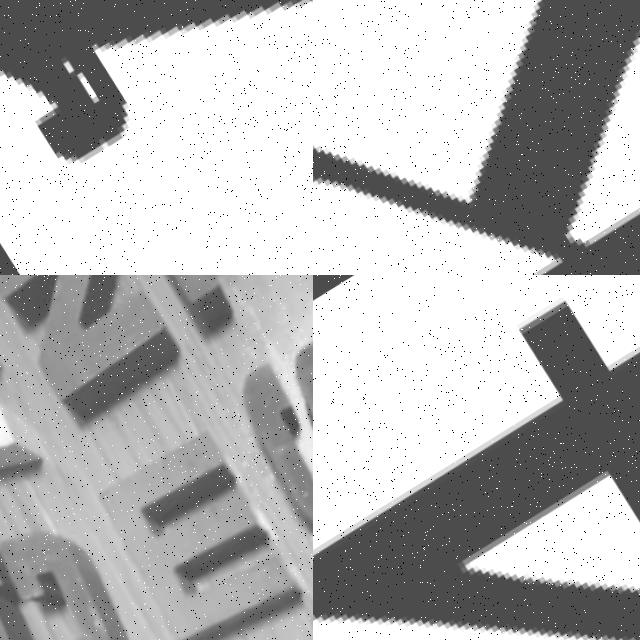1: (0, 0, 313, 275)
G: (0, 505, 143, 640)
H: (0, 283, 55, 521)
K: (313, 0, 640, 275)
M: (83, 426, 299, 640)
N: (0, 275, 191, 438)
S: (220, 313, 313, 585)
T: (113, 275, 313, 340)
